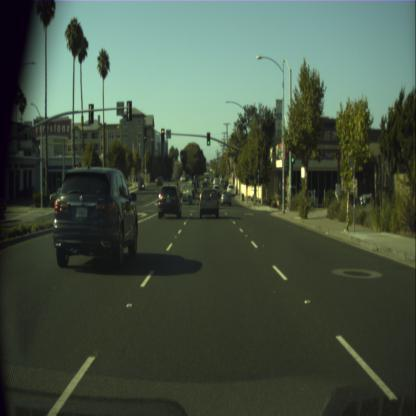Green: (290, 147, 294, 162), (206, 132, 210, 146), (256, 162, 260, 172)
RedLeft: (161, 128, 164, 142)
